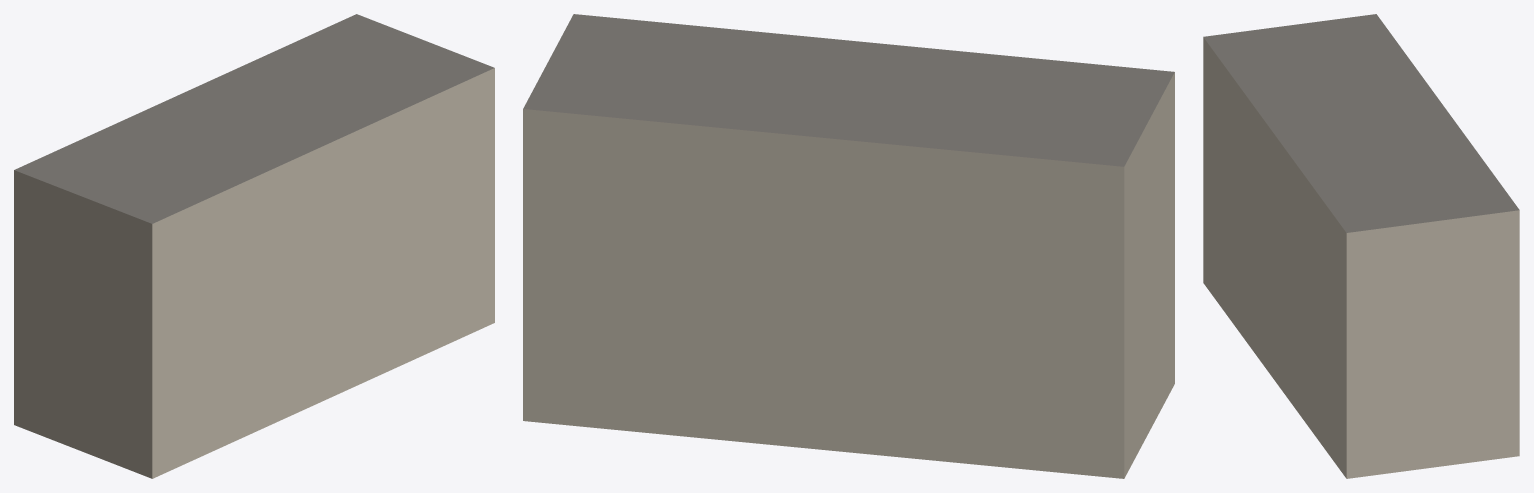
3 renders of one model, left to right at view 1: azimuth 30°, elevation 25°; view 2: azimuth 150°, elevation 25°; view 3: azimuth 270°, elevation 25°, orthographic. The views are drawn at different scales.
Visible parts, largest first — view 1: HP-w505650487; view 2: HP-w505650487; view 3: HP-w505650487.
Part boxes in pixels (x1,y1,x2,y2): HP-w505650487: (14, 14, 494, 478); HP-w505650487: (523, 14, 1174, 478); HP-w505650487: (1203, 14, 1519, 478).
Size of the model in its own units: 34.38 by 18 by 21.
